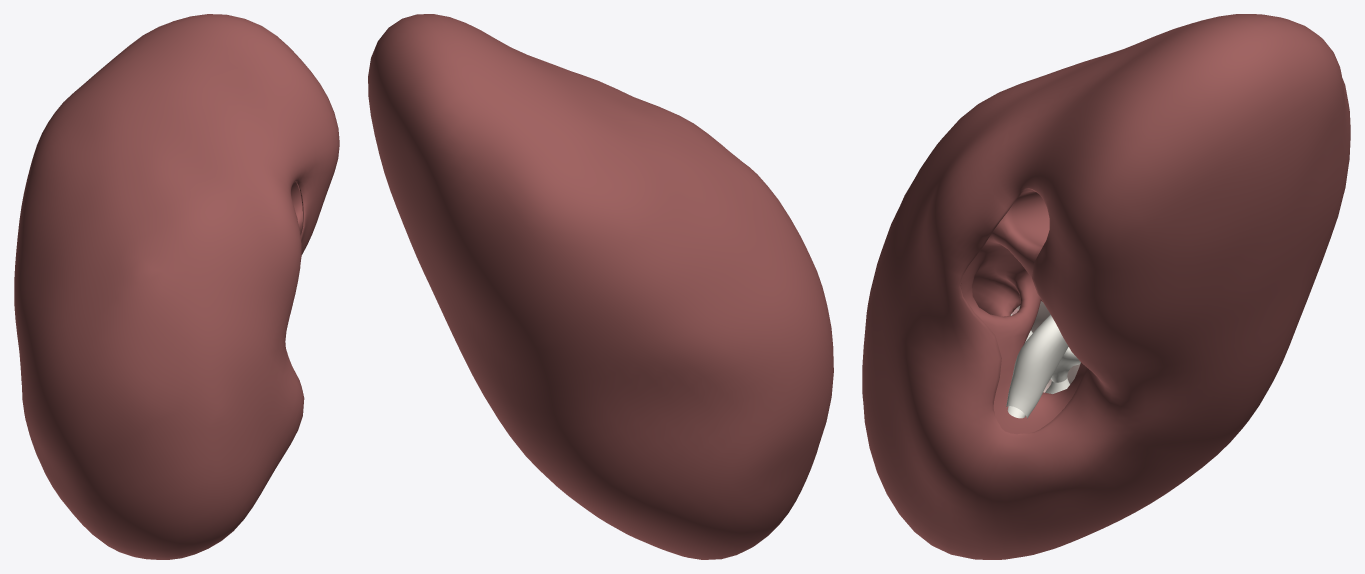
The model's file is VH_F_Kidney_R.glb.
3 views of the same model, side by side, from view 1: azimuth 30°, elevation 25°; view 2: azimuth 150°, elevation 25°; view 3: azimuth 270°, elevation 25° (orthographic). The views are drawn at different scales.
Parts seen in each view (by area): view 1: VH_F_kidney_capsule_R; view 2: VH_F_kidney_capsule_R; view 3: VH_F_kidney_capsule_R, VH_F_hilum_of_kidney_R, VH_F_renal_pelvis_R.
Part boxes in pixels (x1,y1,x2,y2): VH_F_kidney_capsule_R: (14, 14, 339, 559); VH_F_kidney_capsule_R: (368, 14, 833, 559); VH_F_kidney_capsule_R: (862, 14, 1350, 559); VH_F_hilum_of_kidney_R: (960, 189, 1086, 434); VH_F_renal_pelvis_R: (1006, 314, 1068, 418).
Bounding box in the file's own units: 0.0734 × 0.0979 × 0.0695.
